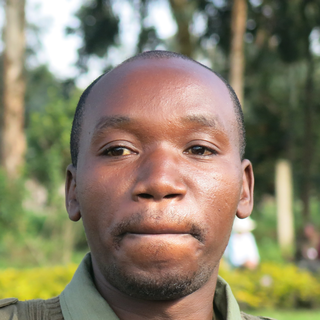eye: (91, 140, 147, 162), (173, 140, 225, 163)
